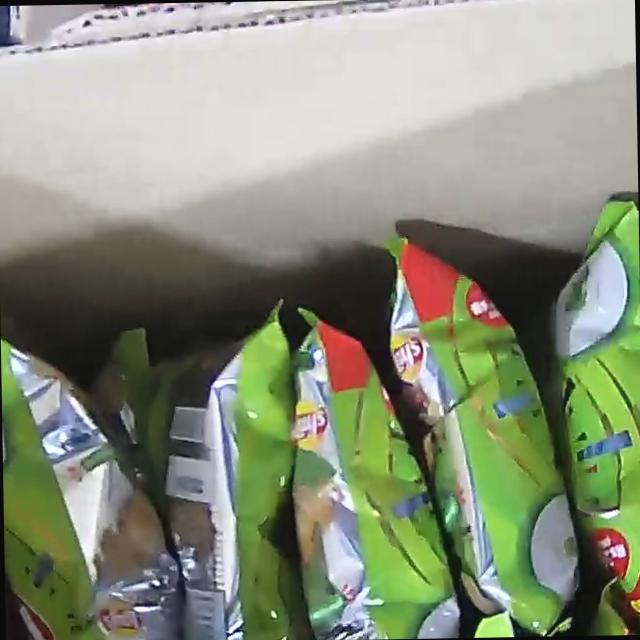yogurt: (0, 191, 640, 640)
